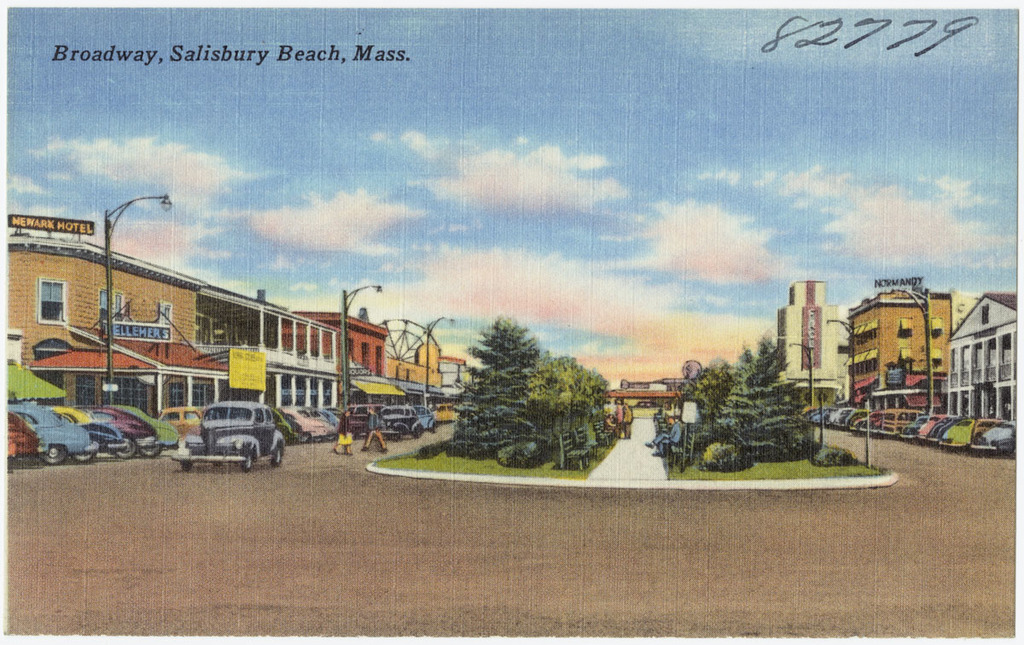Tree: (442, 307, 618, 464), (680, 330, 819, 464)
